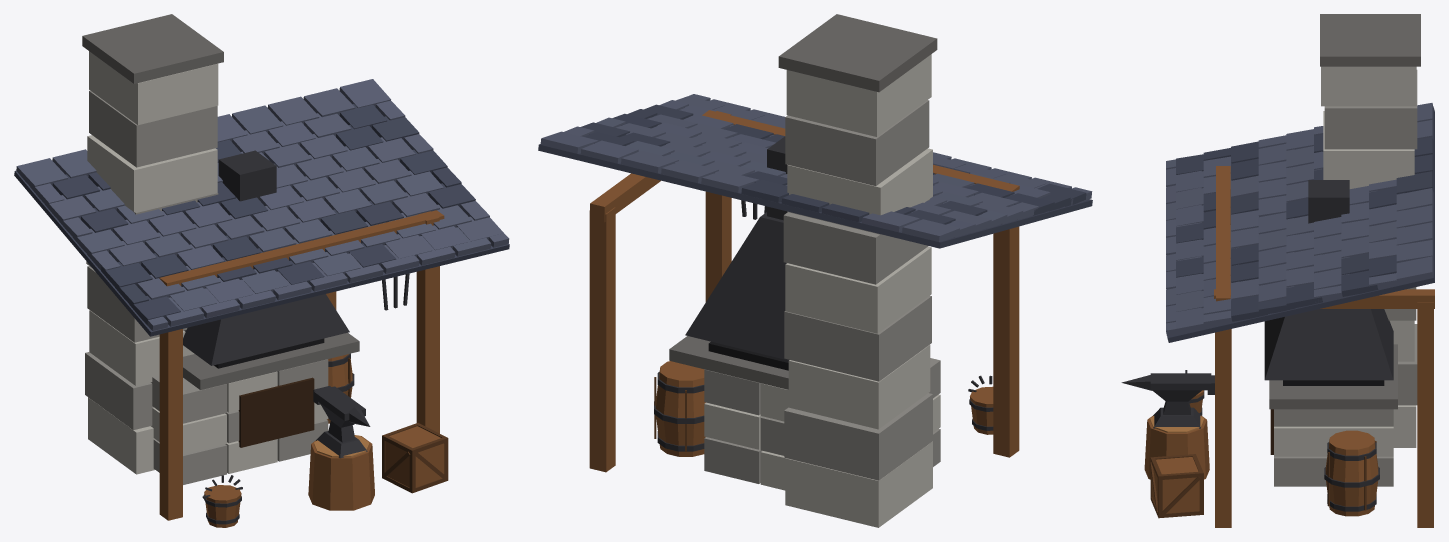
File: Forge_Setup.fbx
3 views of the same model, side by side, from view 1: azimuth 30°, elevation 25°; view 2: azimuth 150°, elevation 25°; view 3: azimuth 270°, elevation 25° (orthographic). The views are drawn at different scales.
Visible parts, largest first — view 1: Forge_Setup; view 2: Forge_Setup; view 3: Forge_Setup.
Part boxes in pixels (x1,y1,x2,y2): Forge_Setup: [14, 14, 509, 527]; Forge_Setup: [538, 14, 1092, 527]; Forge_Setup: [1121, 14, 1434, 527].
Size of the model in its own units: 4.4 by 4.72 by 3.41.
